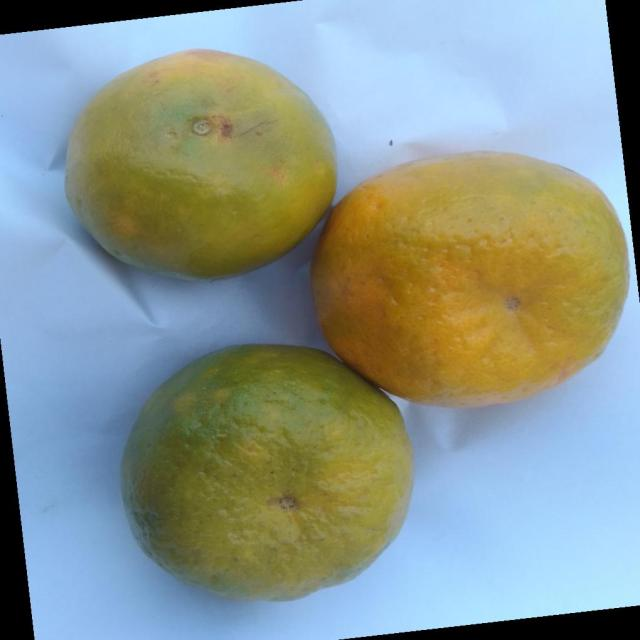fresh orange: (309, 149, 630, 408), (119, 342, 414, 602), (62, 47, 338, 280)
